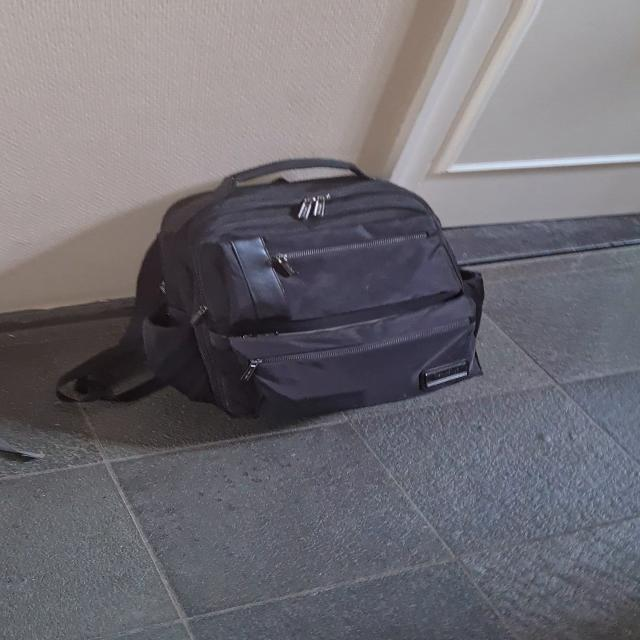backpack: (84, 152, 520, 434)
